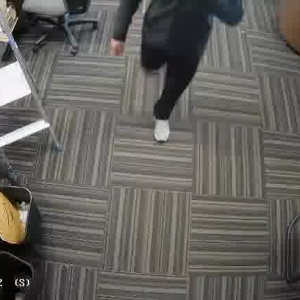person: (125, 0, 229, 134)
